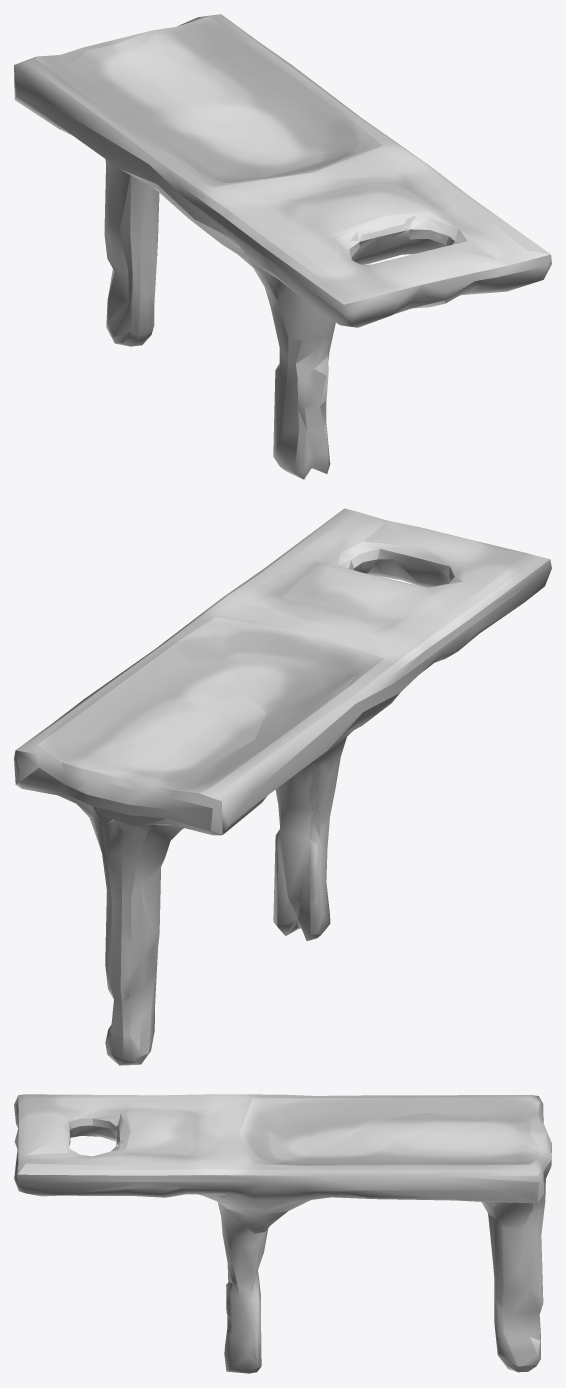
Rendered from Bridge.fbx.
3 views of the same model, one above another, from view 1: azimuth 30°, elevation 25°; view 2: azimuth 150°, elevation 25°; view 3: azimuth 270°, elevation 25° (orthographic). The views are drawn at different scales.
Visible parts, largest first — view 1: Bridge1; view 2: Bridge1; view 3: Bridge1.
Part boxes in pixels (x1,y1,x2,y2): Bridge1: (14, 14, 551, 479); Bridge1: (14, 508, 551, 1065); Bridge1: (14, 1094, 551, 1373).
Bounding box in the file's own units: 1083 × 1508 × 3025.
1 material, 1 textured.
